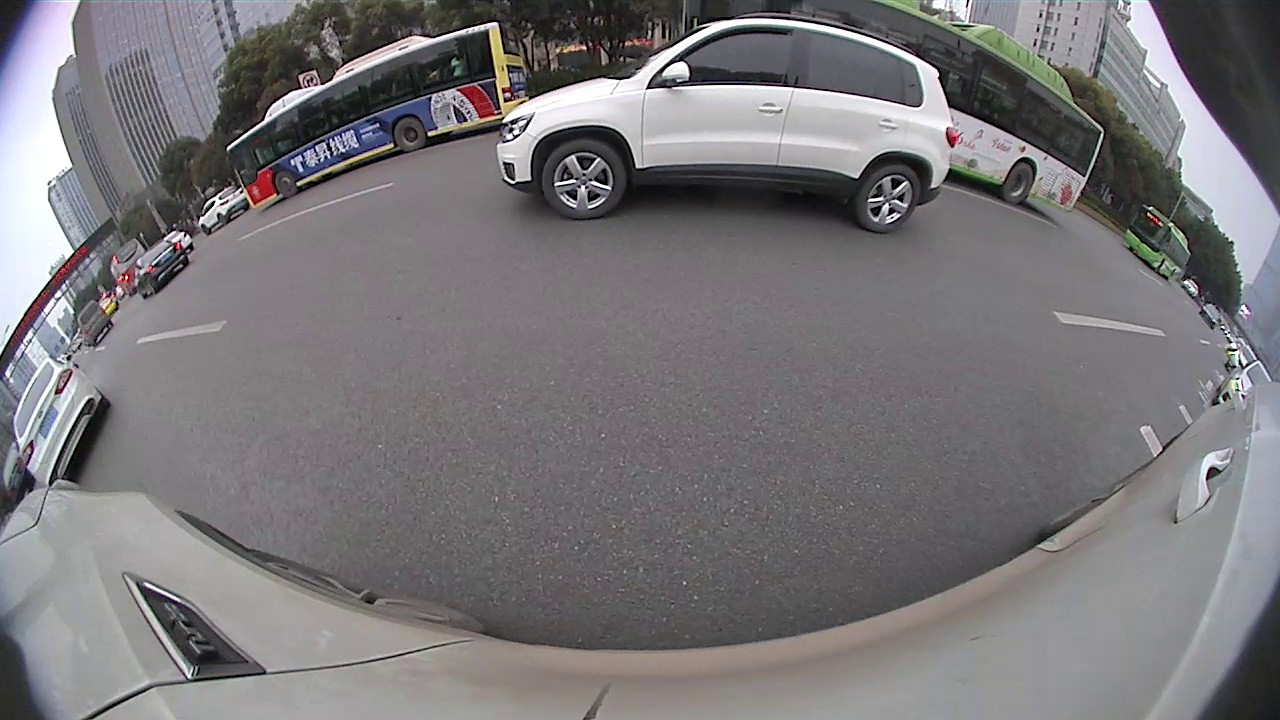bus: (786, 0, 1110, 222), (222, 18, 537, 215), (1119, 199, 1196, 287)
car: (493, 9, 960, 236), (10, 350, 113, 487), (131, 235, 191, 301), (196, 182, 250, 238)
front: (540, 136, 630, 222), (273, 168, 299, 199)
rear: (862, 160, 918, 233), (1002, 159, 1033, 206), (392, 114, 428, 153)
